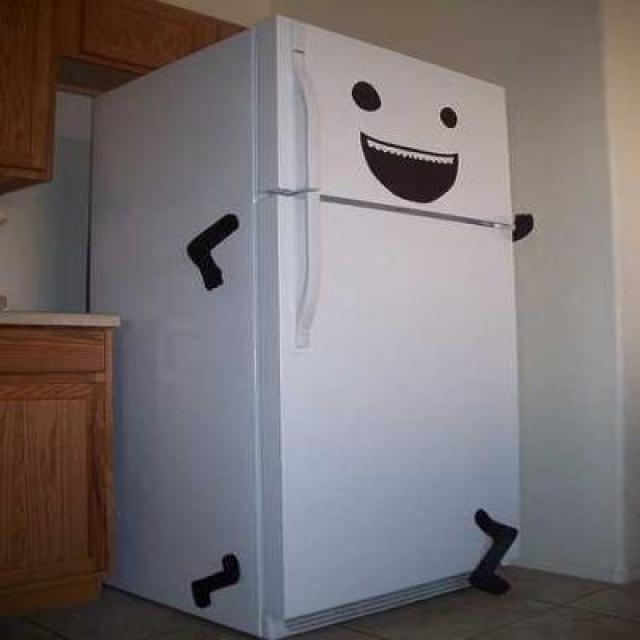refrigerator: (251, 16, 531, 618)
